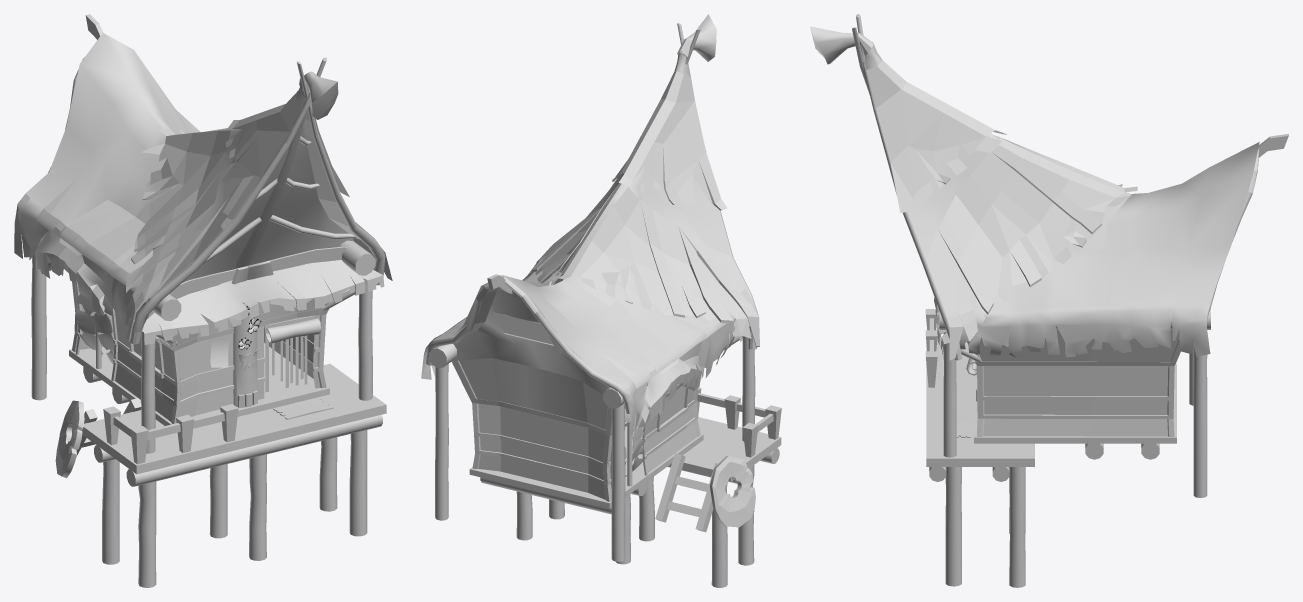
Rendered from casitafaltanuvs (1) (1).fbx.
3 renders of one model, left to right at view 1: azimuth 30°, elevation 25°; view 2: azimuth 150°, elevation 25°; view 3: azimuth 270°, elevation 25°, orthographic. The views are drawn at different scales.
Parts seen in each view (by area): view 1: Cylinder044, Cylinder041, basecasa_contablas, Box001, Plane002, Plane001, Cylinder039, Box017, Cylinder001, Cylinder012, Cylinder033, Cylinder003 (+27 smaller); view 2: Cylinder041, basecasa_contablas, Cylinder044, Cylinder039, Plane011, Box001, Box017, Cylinder009, Cylinder034, Cylinder033, Cylinder035, Cylinder010 (+13 smaller); view 3: Cylinder044, Cylinder041, basecasa_contablas, Cylinder039, Box001, Cylinder034, Box017, Cylinder007, Cylinder003, Cylinder011, Cylinder016, Cylinder019.
Boxes of the visible parts, x1,y1,x2,y2 form: Cylinder044: (14, 33, 374, 326); Cylinder041: (125, 128, 392, 341); basecasa_contablas: (72, 261, 329, 423); Box001: (82, 363, 386, 474); Plane002: (142, 260, 384, 344); Plane001: (143, 103, 375, 325); Cylinder039: (221, 87, 349, 229); Box017: (69, 343, 329, 425); Cylinder001: (126, 414, 382, 486); Cylinder012: (130, 57, 326, 344); Cylinder033: (31, 234, 46, 400); Cylinder003: (349, 430, 367, 536); Cylinder041: (527, 167, 759, 347); basecasa_contablas: (452, 321, 700, 501); Cylinder044: (421, 266, 742, 436); Cylinder039: (612, 51, 726, 210); Plane011: (451, 287, 625, 408); Box001: (668, 417, 781, 481); Box017: (469, 426, 703, 508); Cylinder009: (710, 456, 755, 527); Cylinder034: (435, 364, 448, 520); Cylinder033: (611, 403, 625, 561); Cylinder035: (504, 277, 630, 413); Cylinder010: (742, 336, 755, 441); Cylinder044: (959, 142, 1259, 357); Cylinder041: (909, 133, 1137, 360); basecasa_contablas: (967, 330, 1180, 436); Cylinder039: (864, 42, 1006, 213); Box001: (926, 340, 1034, 466); Cylinder034: (1193, 346, 1207, 497); Box017: (974, 364, 1176, 443); Cylinder007: (1009, 467, 1025, 587); Cylinder003: (945, 467, 961, 586); Cylinder011: (943, 342, 956, 457); Cylinder016: (856, 14, 962, 360); Cylinder019: (810, 26, 873, 64).
Size of the model in its own units: 43.31 by 64.23 by 76.46.
